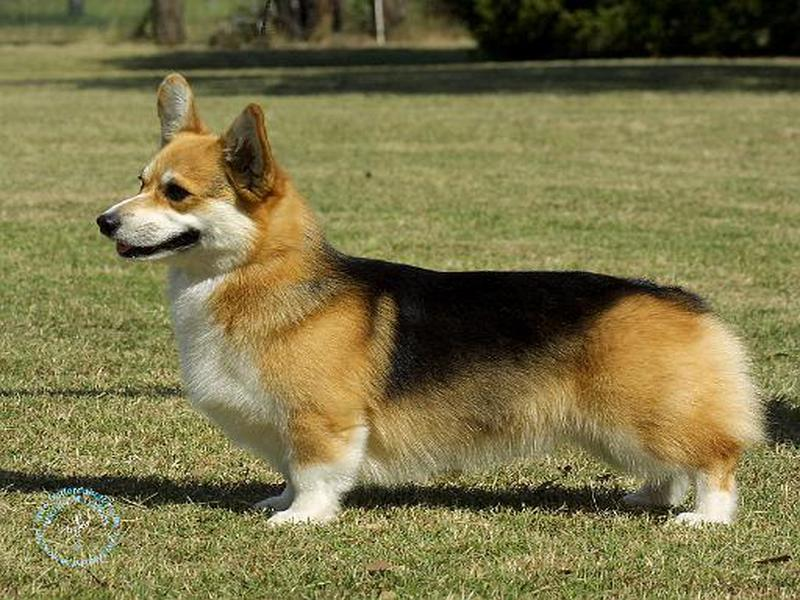corgi: (96, 72, 288, 272)
